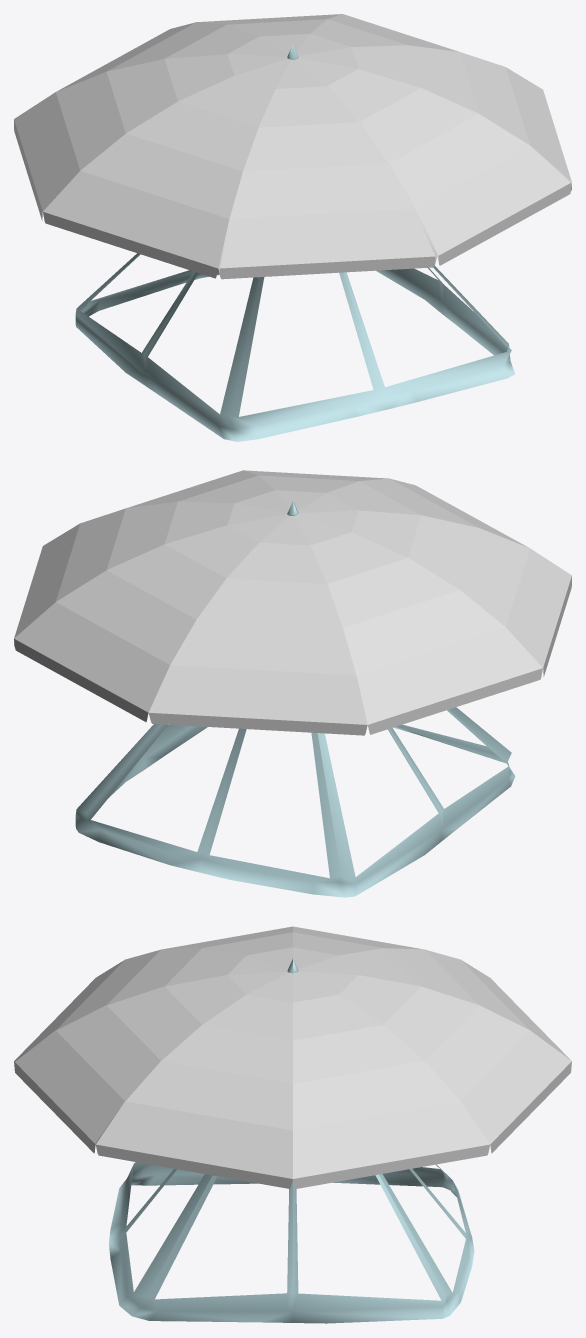
The model's file is umbrella_hat.fbx.
3 renders of one model, top to bottom at view 1: azimuth 30°, elevation 25°; view 2: azimuth 150°, elevation 25°; view 3: azimuth 270°, elevation 25°, orthographic. The views are drawn at different scales.
Parts seen in each view (by area): view 1: Sphere.001, Sphere.009, Sphere.010, Sphere.002, Sphere.008, Sphere.004, Sphere.007, Sphere.005, Sphere.006; view 2: Sphere.007, Sphere.008, Sphere.006, Sphere.002, Sphere.009, Sphere.005, Sphere.001, Sphere.004, Sphere.010; view 3: Sphere.004, Sphere.005, Sphere.002, Sphere.006, Sphere.010, Sphere.001, Sphere.007, Sphere.008, Sphere.009.
Part boxes in pixels (x1,y1,x2,y2): Sphere.001: (218, 59, 437, 279); Sphere.009: (43, 58, 290, 278); Sphere.010: (296, 58, 571, 265); Sphere.002: (75, 45, 514, 441); Sphere.008: (14, 54, 287, 220); Sphere.004: (298, 45, 571, 190); Sphere.007: (56, 22, 288, 91); Sphere.005: (296, 14, 459, 55); Sphere.006: (197, 14, 341, 54); Sphere.007: (148, 516, 367, 735); Sphere.008: (294, 515, 542, 734); Sphere.006: (14, 514, 289, 721); Sphere.002: (75, 501, 515, 897); Sphere.009: (298, 510, 571, 676); Sphere.005: (14, 501, 287, 646); Sphere.001: (298, 478, 528, 547); Sphere.004: (126, 470, 289, 512); Sphere.010: (243, 470, 388, 510); Sphere.004: (95, 972, 292, 1188); Sphere.005: (293, 972, 490, 1188); Sphere.002: (109, 959, 474, 1323); Sphere.006: (297, 971, 571, 1153); Sphere.010: (14, 971, 288, 1153); Sphere.001: (15, 948, 287, 1059); Sphere.007: (298, 948, 570, 1059); Sphere.008: (293, 926, 424, 968); Sphere.009: (161, 926, 292, 968).
Size of the model in its own units: 9977 by 5818 by 9978.
